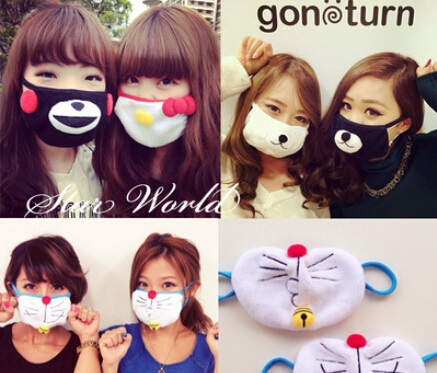face_mask: (22, 44, 111, 144), (114, 49, 189, 145), (329, 76, 401, 161), (244, 74, 315, 159), (132, 257, 185, 331), (18, 265, 68, 329)
